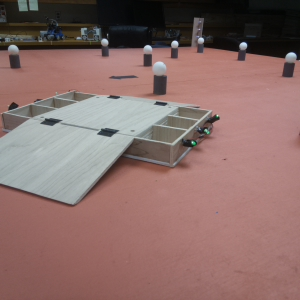corner: (192, 17, 203, 48)
obstacle: (151, 62, 169, 97), (282, 50, 295, 78), (8, 44, 20, 69), (142, 44, 153, 67), (237, 40, 247, 62), (101, 38, 109, 58), (196, 37, 205, 53), (171, 40, 179, 58)
side: (169, 110, 220, 169)
slope: (2, 118, 135, 207)
start: (109, 73, 139, 83)
